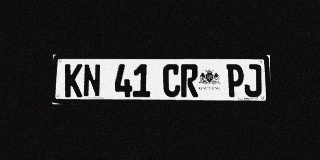1: (133, 64, 150, 97)
4: (115, 64, 132, 97)
C: (163, 64, 180, 97)
J: (244, 64, 262, 97)
K: (65, 64, 83, 97)
N: (83, 64, 101, 97)
P: (226, 64, 244, 97)
R: (181, 64, 198, 97)
